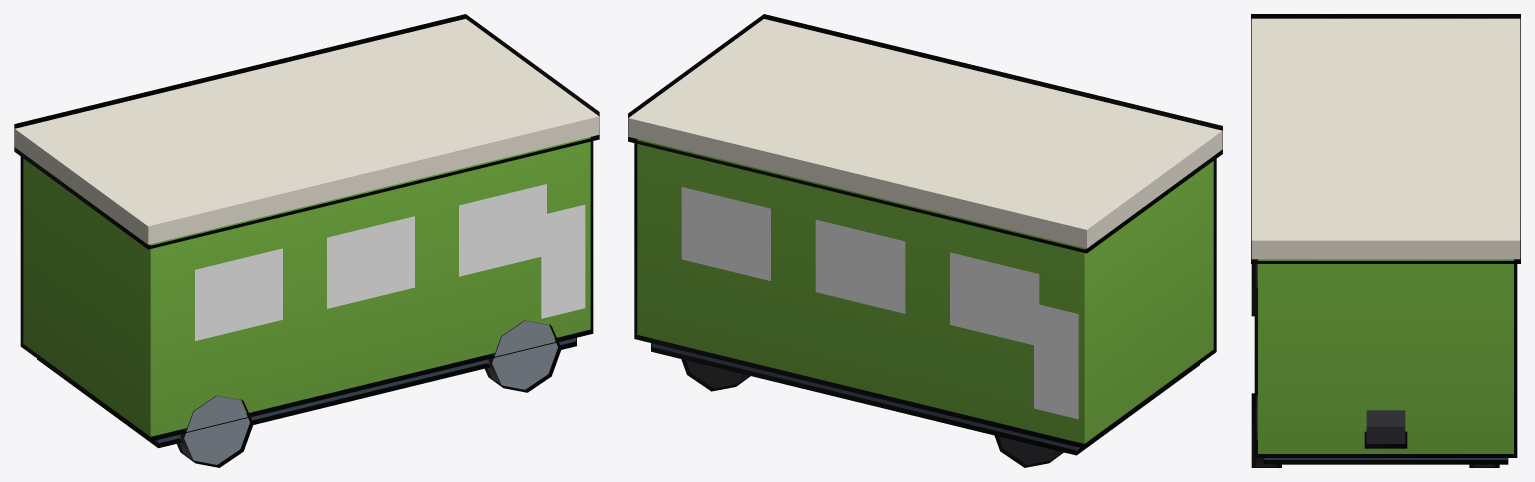
Rendered from BR_Zug_Wagen_B.glb.
3 renders of one model, left to right at view 1: azimuth 30°, elevation 25°; view 2: azimuth 150°, elevation 25°; view 3: azimuth 270°, elevation 25°, orthographic.
Visible parts, largest first — view 1: BR_Zug_Wagen_B_Mesh, BR_Zug_Wagen_B_Outline; view 2: BR_Zug_Wagen_B_Mesh, BR_Zug_Wagen_B_Outline; view 3: BR_Zug_Wagen_B_Mesh, BR_Zug_Wagen_B_Outline.
Part boxes in pixels (x1,y1,x2,y2): BR_Zug_Wagen_B_Mesh: (14,19,599,464); BR_Zug_Wagen_B_Outline: (14,14,599,467); BR_Zug_Wagen_B_Mesh: (628,19,1222,464); BR_Zug_Wagen_B_Outline: (628,14,1222,467); BR_Zug_Wagen_B_Mesh: (1251,18,1520,466); BR_Zug_Wagen_B_Outline: (1251,14,1520,467).
Bounding box in the file's own units: 4.37 × 2.29 × 2.11.
